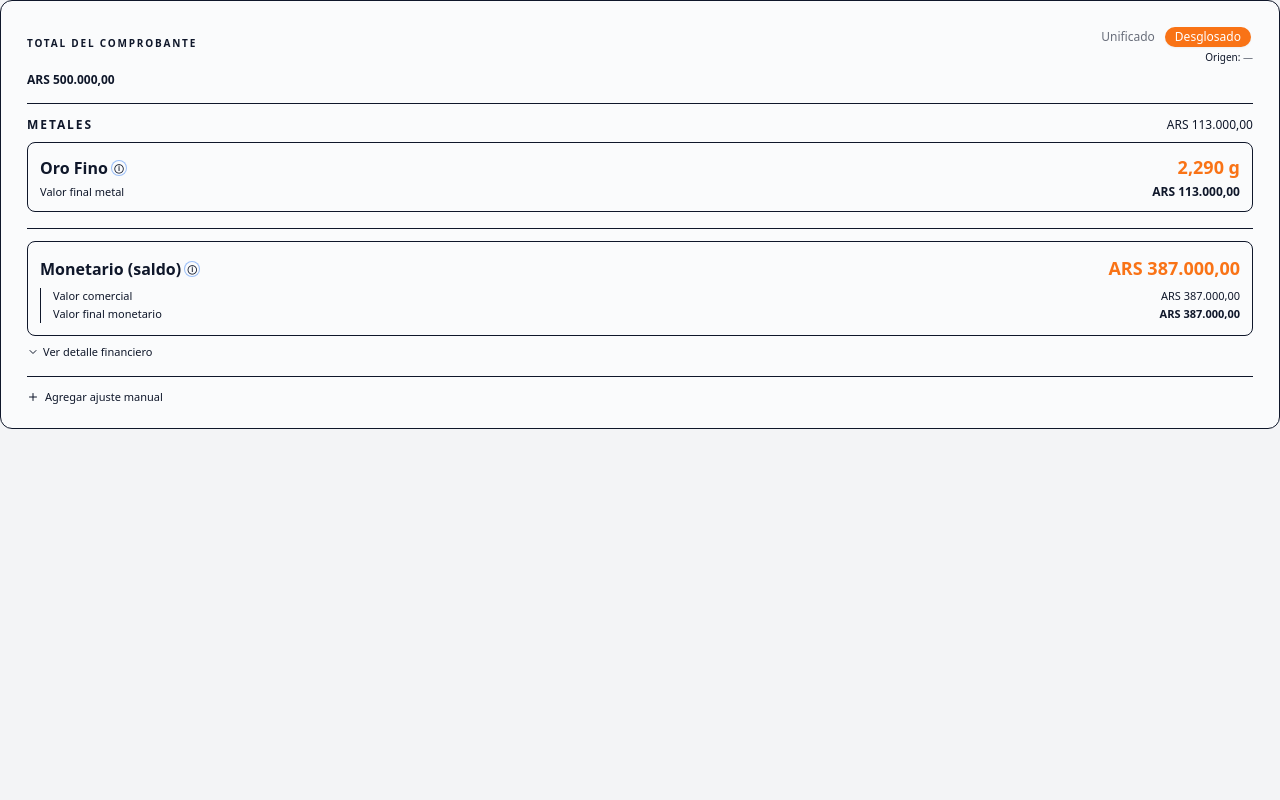
Test: Etapa 2D — displayGrams (lado venta) vs physicalGrams (físico) › Ajuste manual: el editor arranca con preGrams FÍSICO (1,13), no displayGrams
This screenshot has width=1280, height=800.
Click the button with test id "total-card-manual-adjustment-open" at (95, 397), box [27,389,163,406]
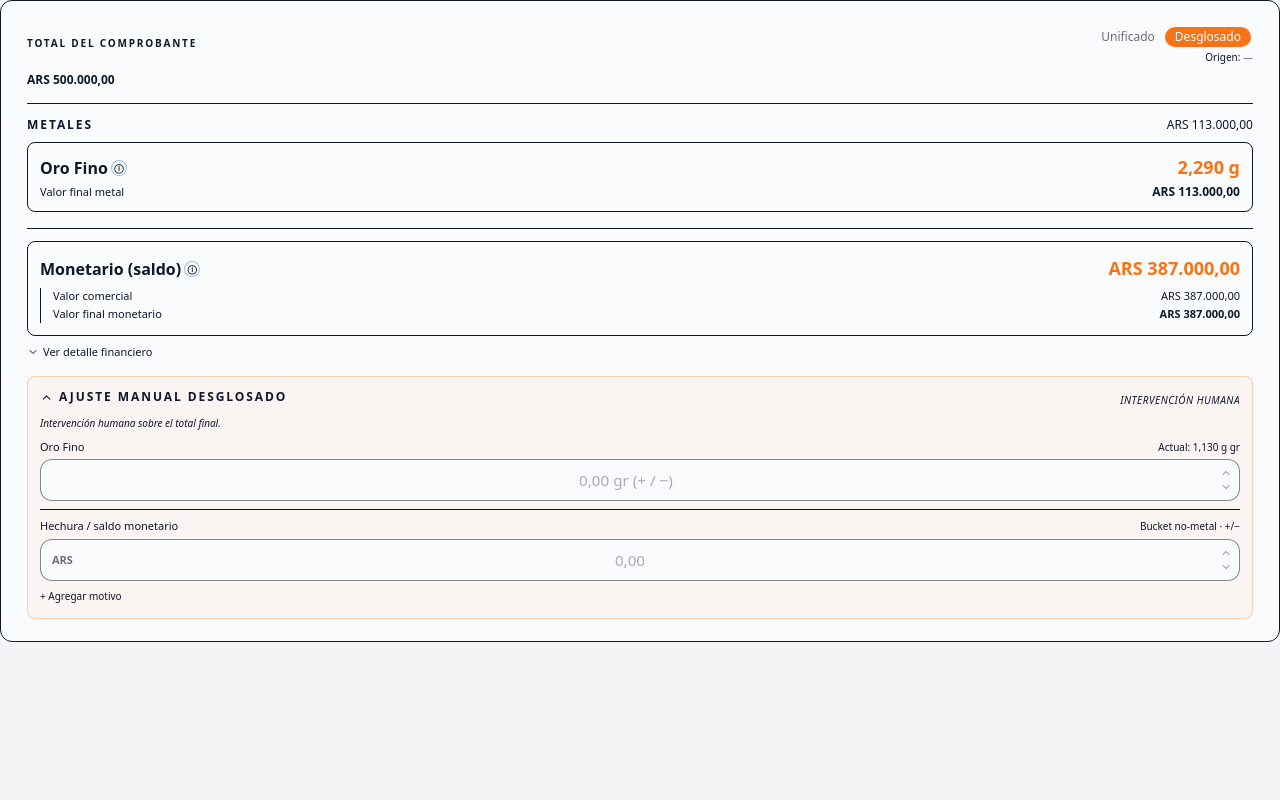
Result: the element with test id "total-card-manual-adjustment-breakdown-editor" reads "Oro Fino Actual: 1,130 g gr Hechura / saldo monetario Bucket no-metal · +/− ARS" at [1193,440,1240,454]
